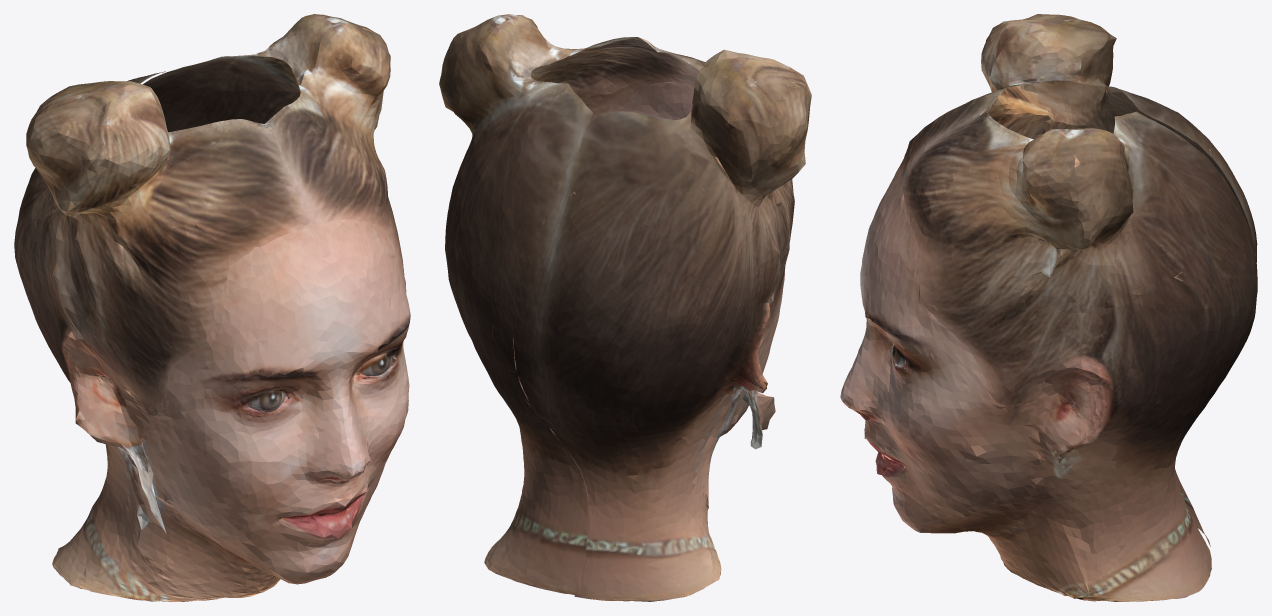
3 renders of one model, left to right at view 1: azimuth 30°, elevation 25°; view 2: azimuth 150°, elevation 25°; view 3: azimuth 270°, elevation 25°, orthographic. The views are drawn at different scales.
Size of the model in its own units: 1.32 by 1.8 by 1.4.
1 material, 1 textured.
